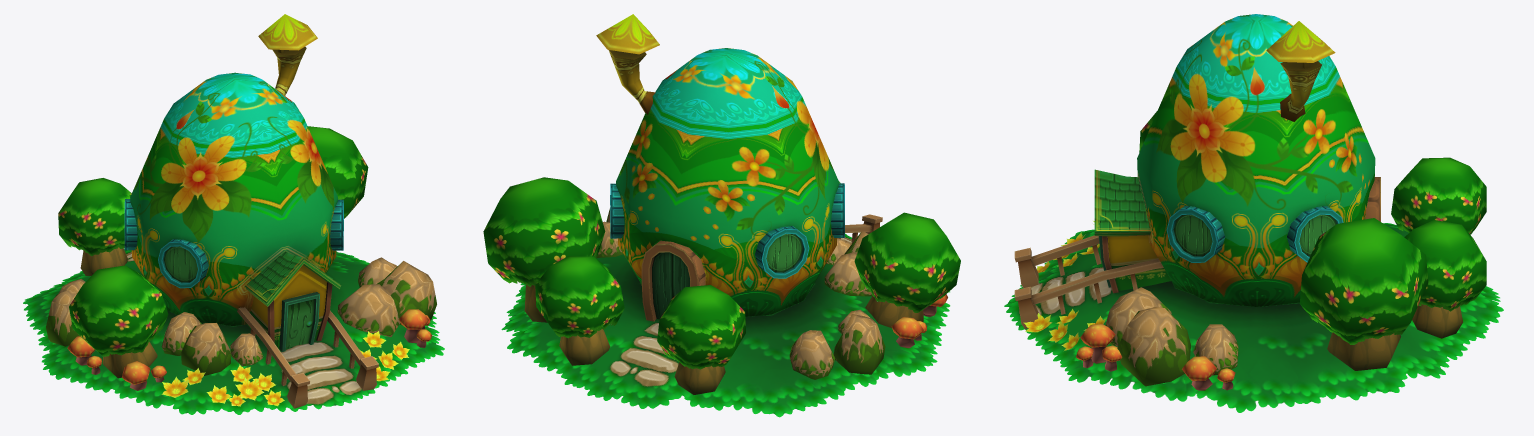
File: Egg_House_04.FBX
The picture shows the model from 3 angles, left to right: view 1: azimuth 30°, elevation 25°; view 2: azimuth 150°, elevation 25°; view 3: azimuth 270°, elevation 25°; orthographic projection. The views are drawn at different scales.
Visible parts, largest first — view 1: Egg_House_04; view 2: Egg_House_04; view 3: Egg_House_04.
Part boxes in pixels (x1,y1,x2,y2): Egg_House_04: [23, 14, 444, 414]; Egg_House_04: [483, 14, 960, 417]; Egg_House_04: [1004, 14, 1503, 412].
Size of the model in its own units: 467 by 321 by 467.
